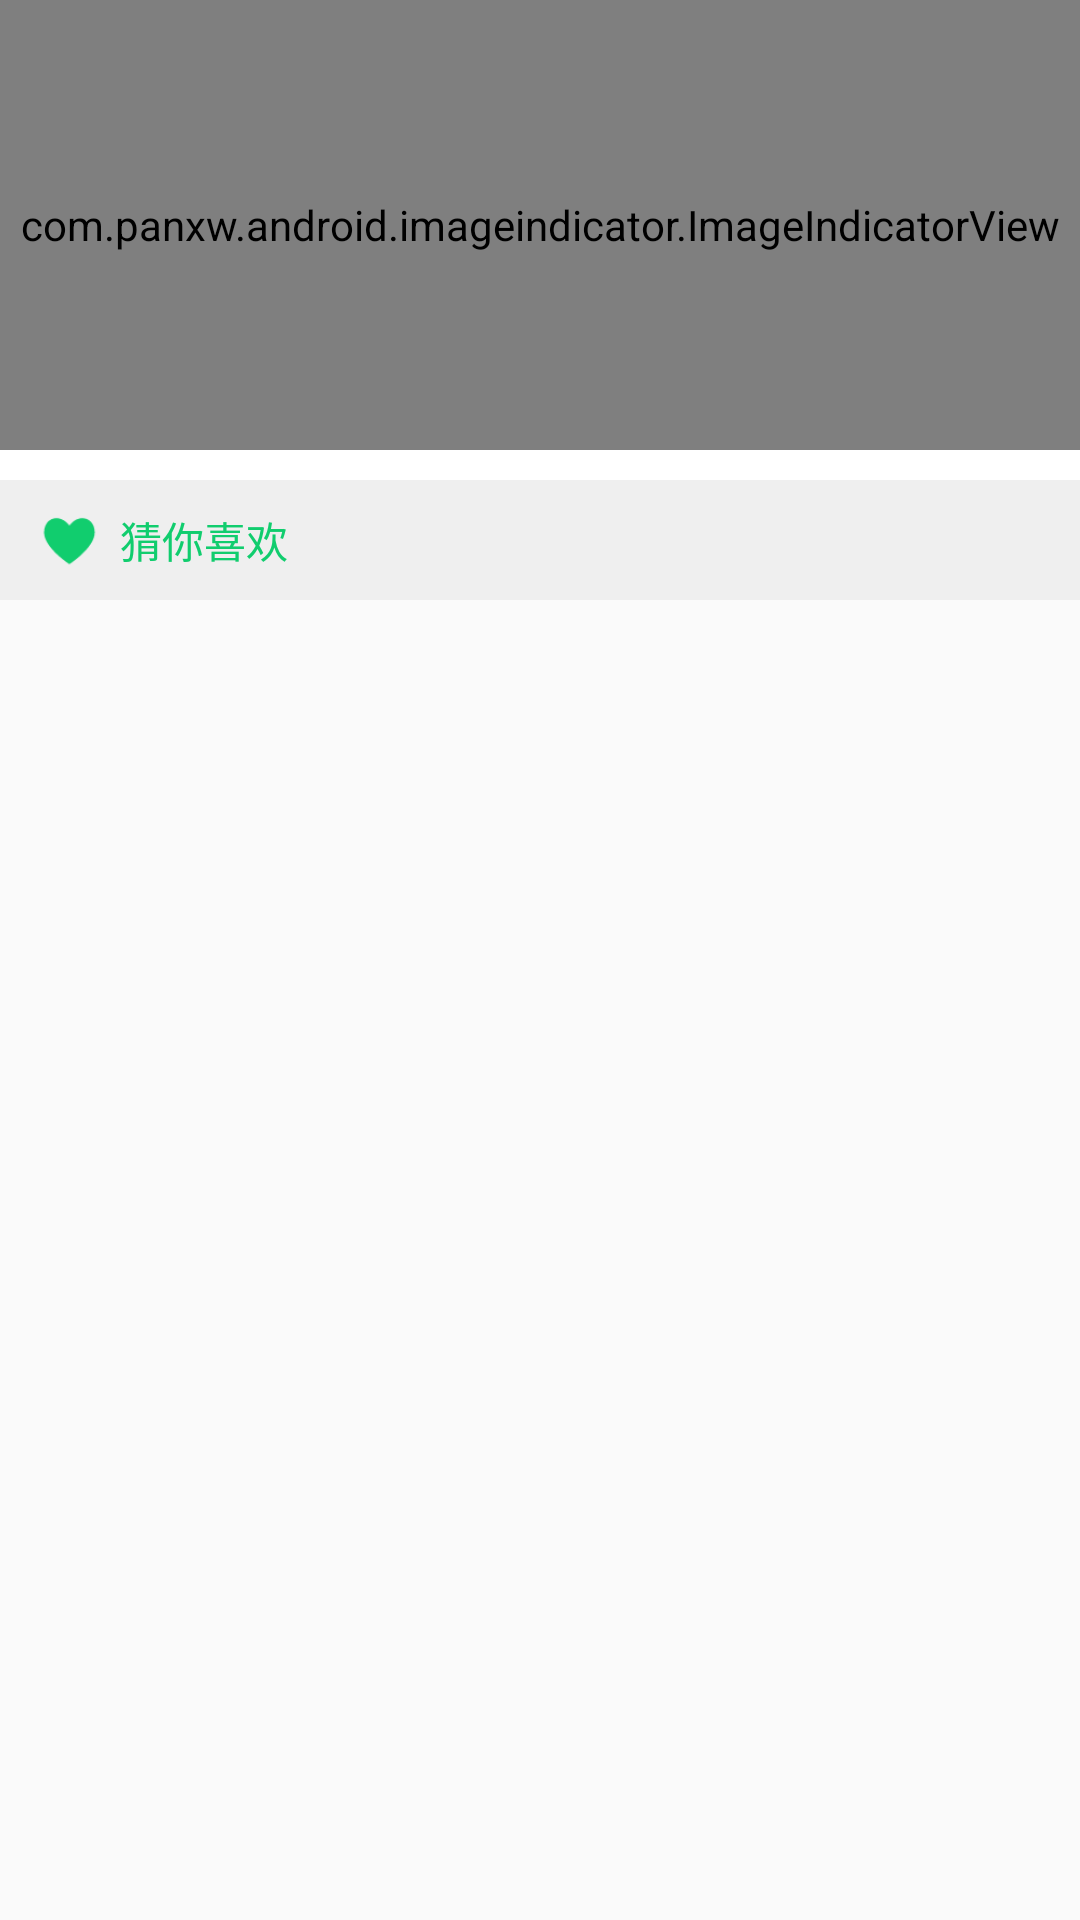

Where icons sit on this 1080*1920 app screen, as (x1, y1, x2, y2):
course like: (43, 518, 96, 565)
